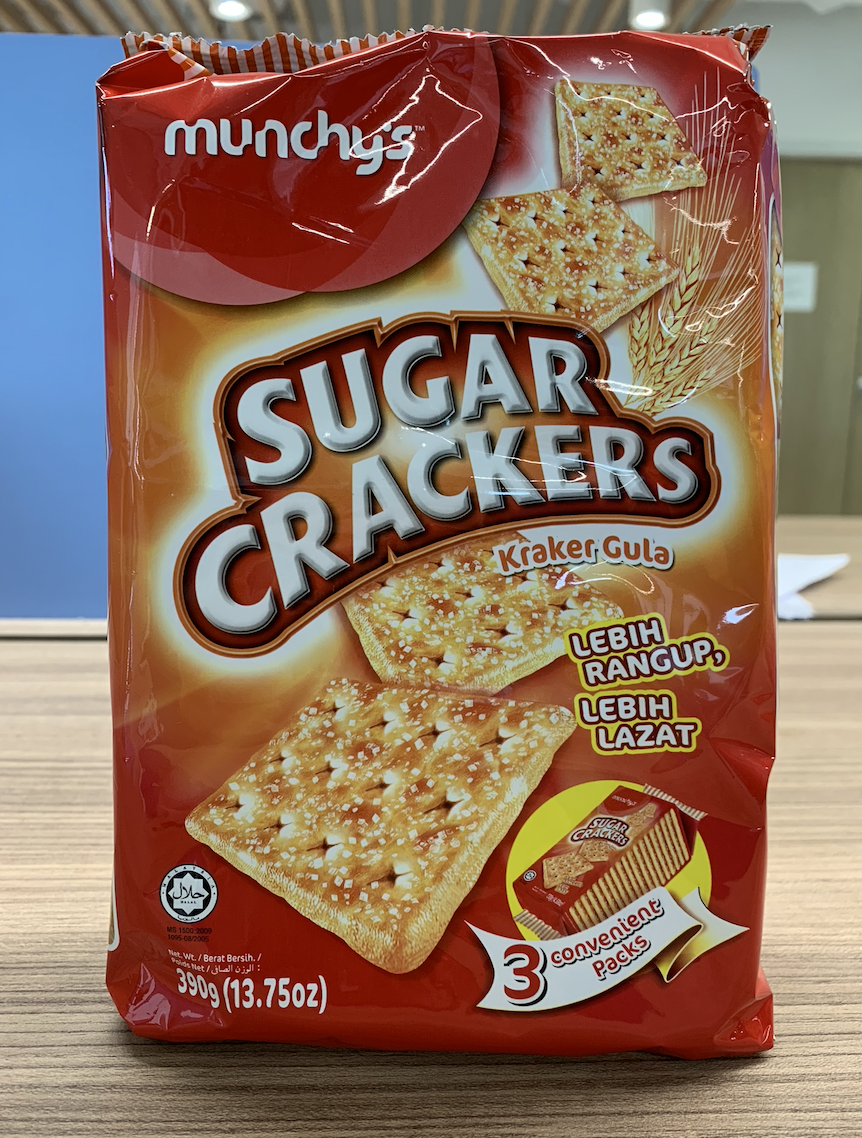crackers_450g: (129, 85, 736, 1036)
